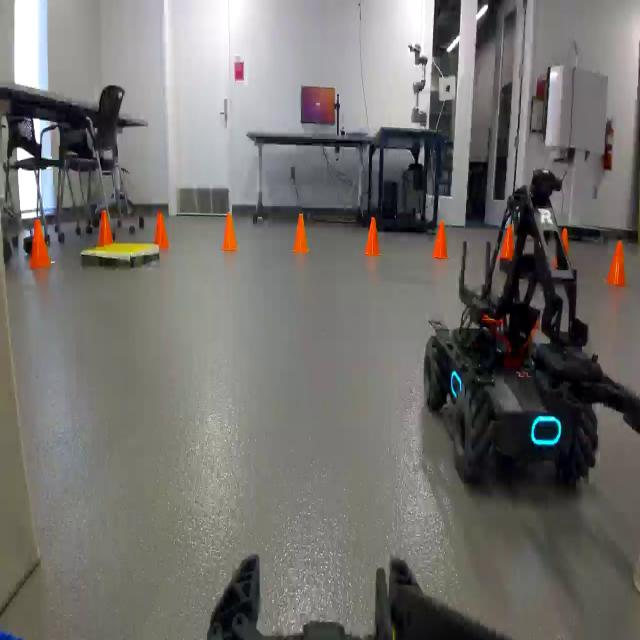cone: (29, 219, 50, 267), (608, 240, 626, 286), (292, 212, 308, 251), (365, 216, 380, 255), (222, 212, 237, 250), (97, 209, 112, 246), (433, 220, 448, 257), (154, 209, 168, 248)
robot: (424, 170, 640, 484)
storage cube: (0, 249, 40, 613)
